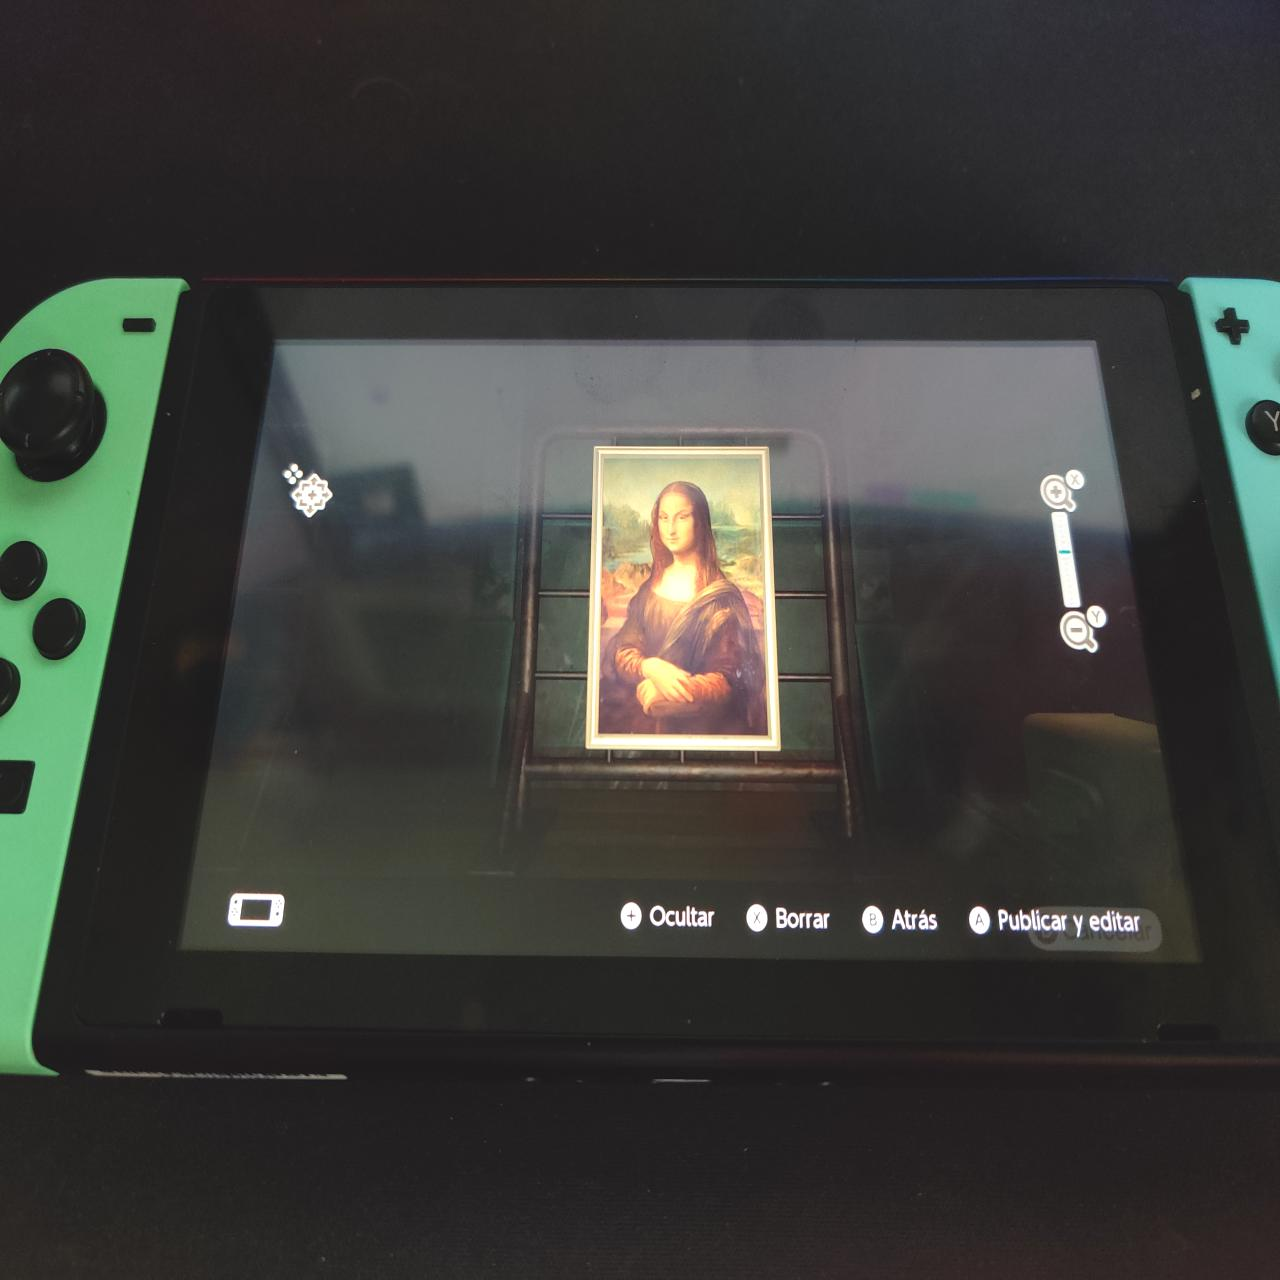MonaLisaFake: (600, 455, 768, 734)
